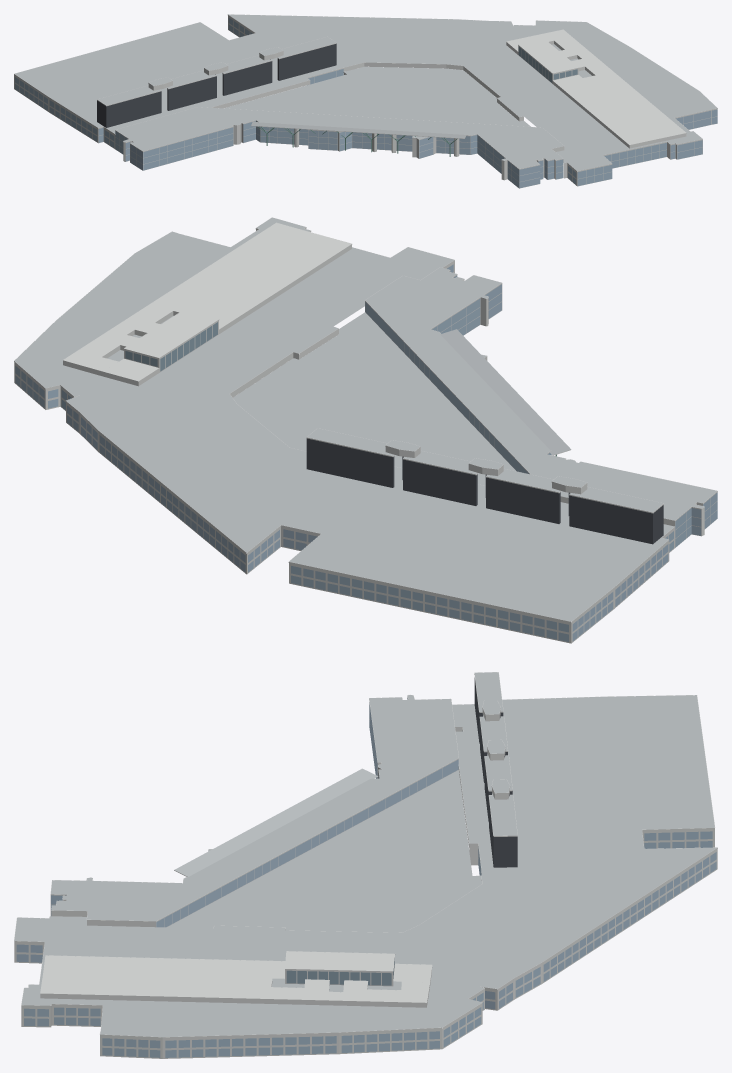
Rendered from amsterdam-schiphol-terminal.glb.
The picture shows the model from 3 angles, top to bottom: view 1: azimuth 30°, elevation 25°; view 2: azimuth 150°, elevation 25°; view 3: azimuth 270°, elevation 25°; orthographic projection. The views are drawn at different scales.
Parts seen in each view (by area): view 1: Amsterdam Airport Schiphol terminal; view 2: Amsterdam Airport Schiphol terminal; view 3: Amsterdam Airport Schiphol terminal.
Boxes of the visible parts, bbox=[...] form: Amsterdam Airport Schiphol terminal: bbox=[14, 14, 717, 188]; Amsterdam Airport Schiphol terminal: bbox=[14, 217, 717, 643]; Amsterdam Airport Schiphol terminal: bbox=[14, 672, 717, 1058].
Bounding box in the file's own units: 439 × 36 × 382.
